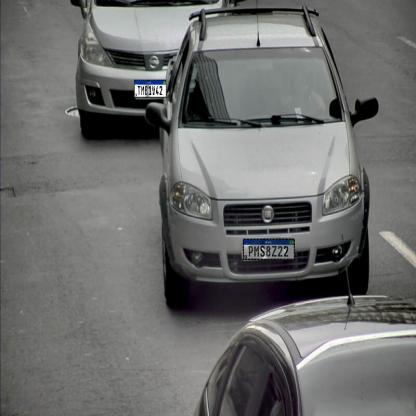PlacaM: (243, 239, 295, 260), (134, 80, 166, 98)
